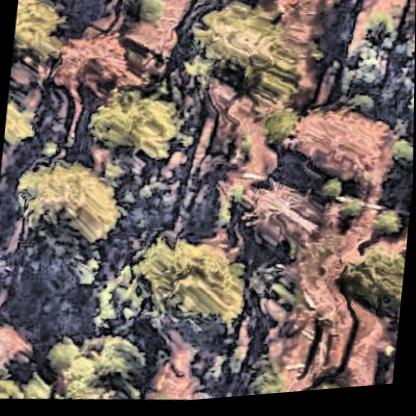tree-top: (126, 214, 249, 356), (7, 141, 127, 265), (184, 0, 304, 120), (79, 81, 183, 178), (48, 322, 147, 408), (326, 235, 407, 339), (9, 0, 74, 82), (251, 104, 305, 164), (115, 0, 171, 33)
